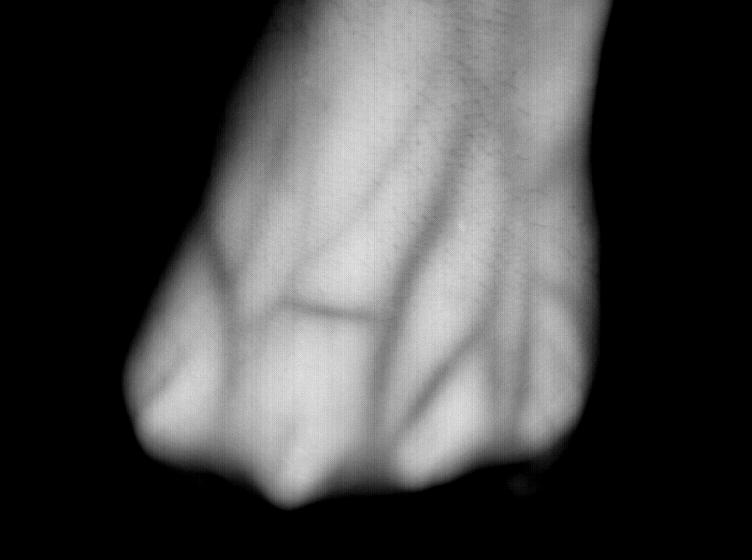Vein: (285, 102, 478, 390)
